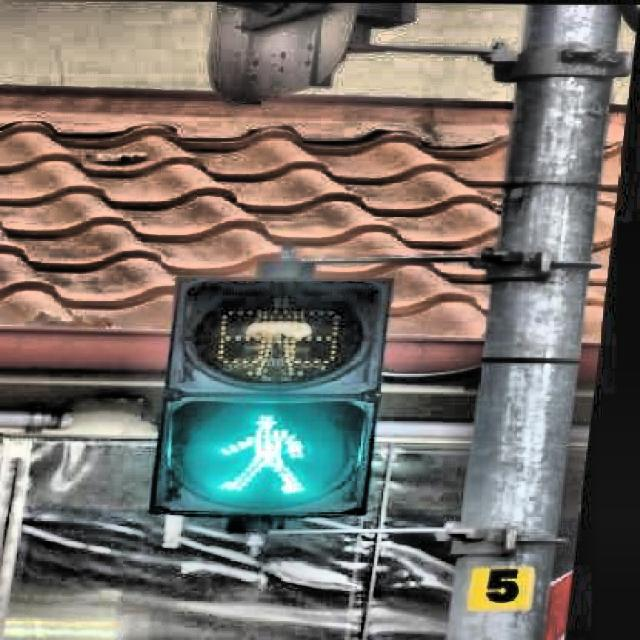semaforo pedestre: (57, 218, 491, 598)
